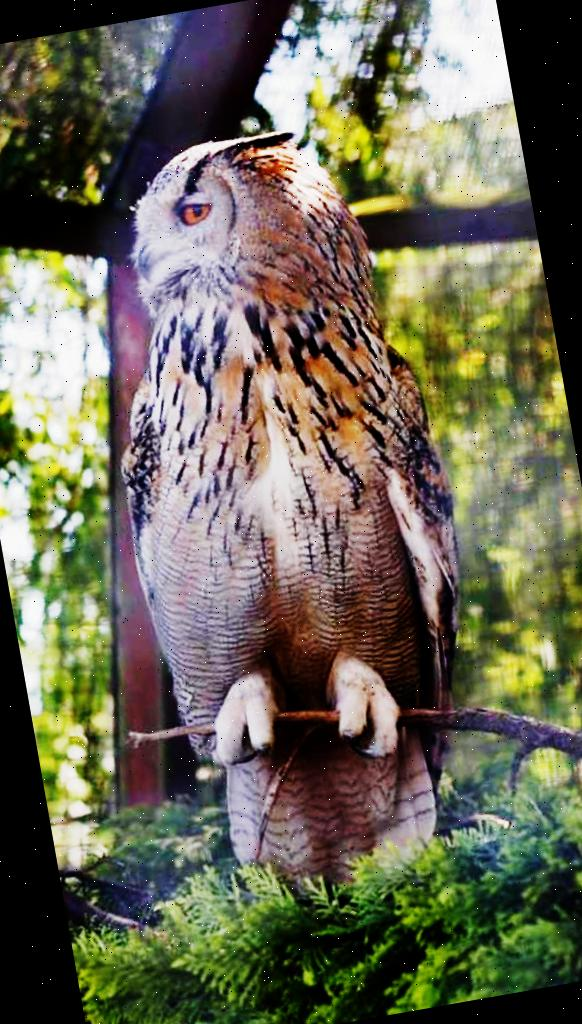Owl: (59, 104, 522, 938)
